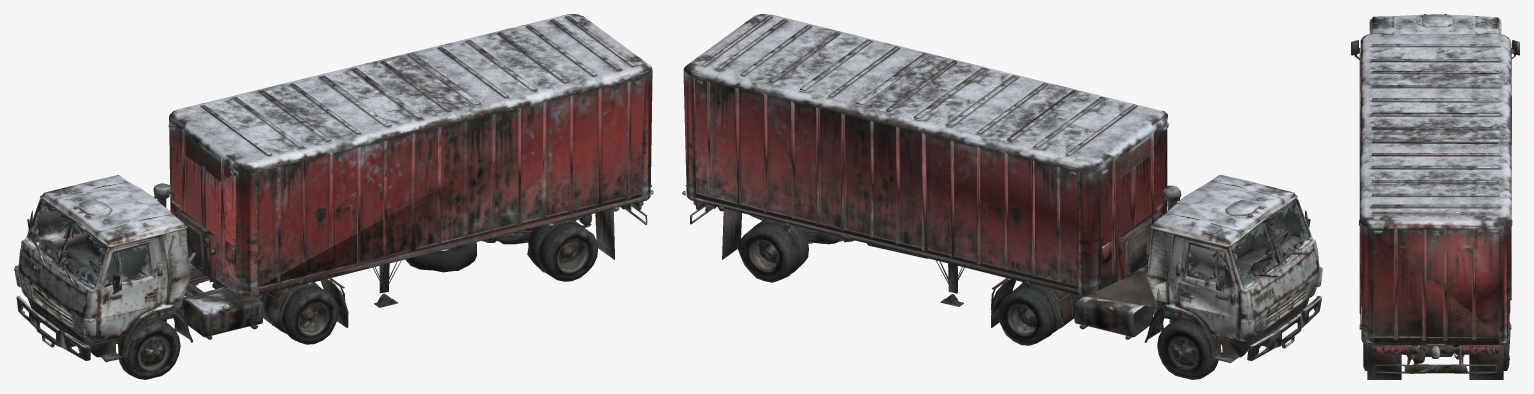
File: road_box_trailer.glb
The picture shows the model from 3 angles, left to right: view 1: azimuth 30°, elevation 25°; view 2: azimuth 150°, elevation 25°; view 3: azimuth 270°, elevation 25°; orthographic projection. The views are drawn at different scales.
Bounding box in the file's own units: 0.9541 × 0.3149 × 0.2583.
1 material, 1 textured.
